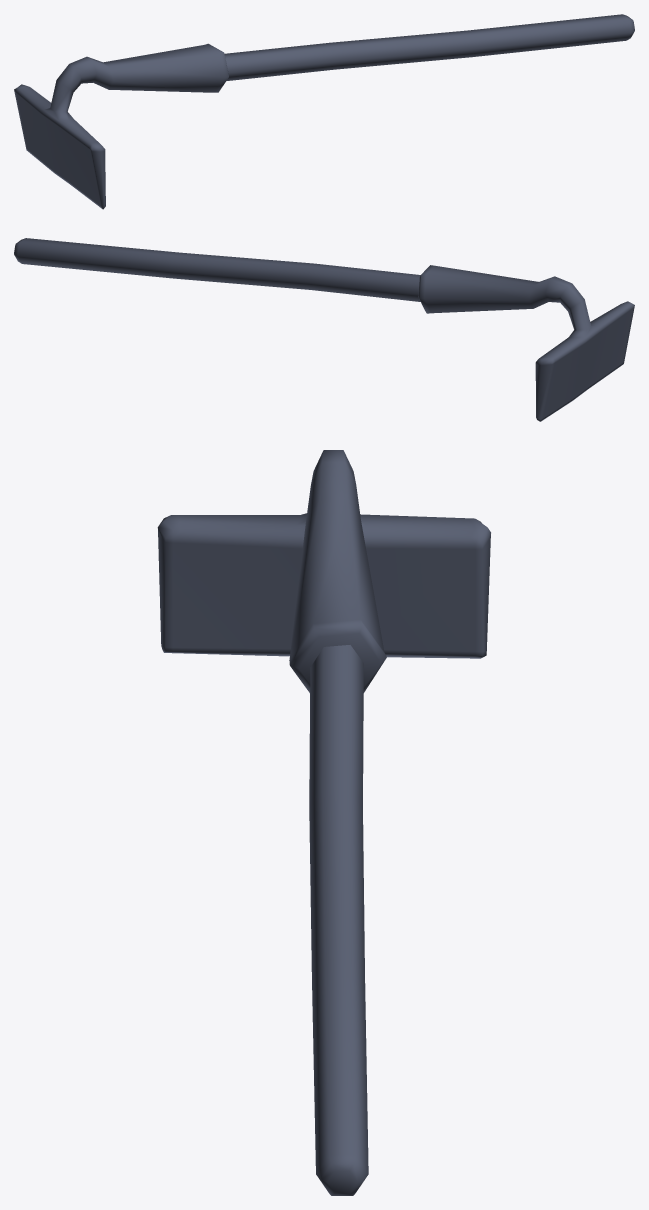
Rendered from PickAxe.FBX.
3 renders of one model, top to bottom at view 1: azimuth 30°, elevation 25°; view 2: azimuth 150°, elevation 25°; view 3: azimuth 270°, elevation 25°, orthographic. The views are drawn at different scales.
Visible parts, largest first — view 1: PickAxe; view 2: PickAxe; view 3: PickAxe.
Boxes of the visible parts, left/top/right/bottom form: PickAxe: left=14, top=14, right=634, bottom=209; PickAxe: left=14, top=238, right=634, bottom=421; PickAxe: left=157, top=450, right=490, bottom=1195.
Bounding box in the file's own units: 125 × 22.99 × 31.37.
